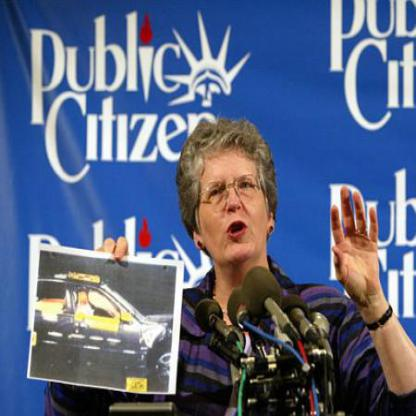face: (191, 125, 270, 265)
